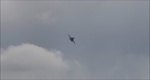maybay_muctieu: (66, 32, 79, 46)
